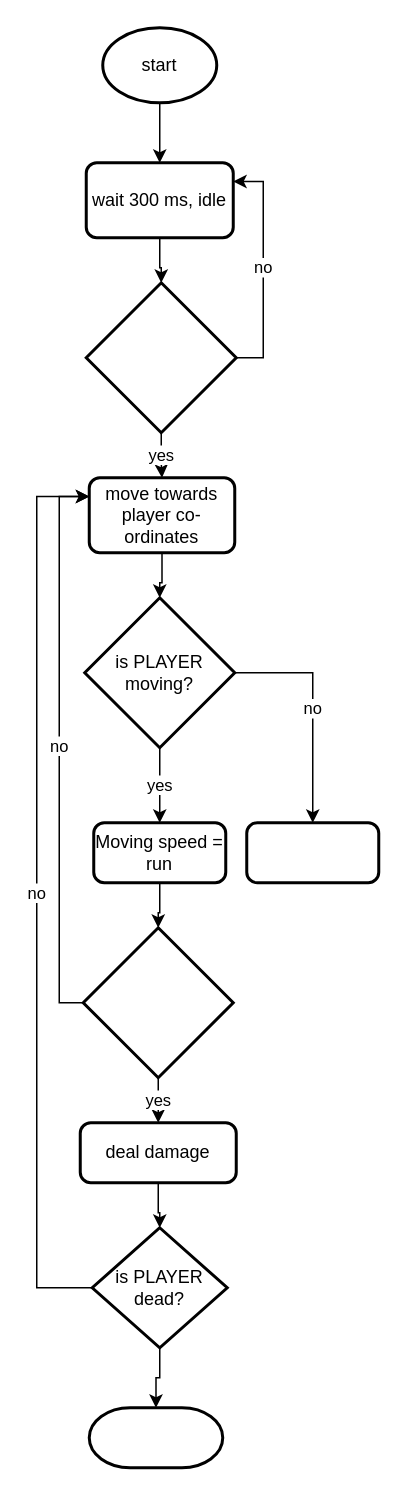
Image size: 407x1494. Some labels were removed from this diagram. Each missing label, with the centre of its shape:
Have you collided with PLAYER?: the point at 157,1002
is PLAYER in view?: the point at 160,357
Moving speed = walk: the point at 312,852
stop: the point at 155,1437
